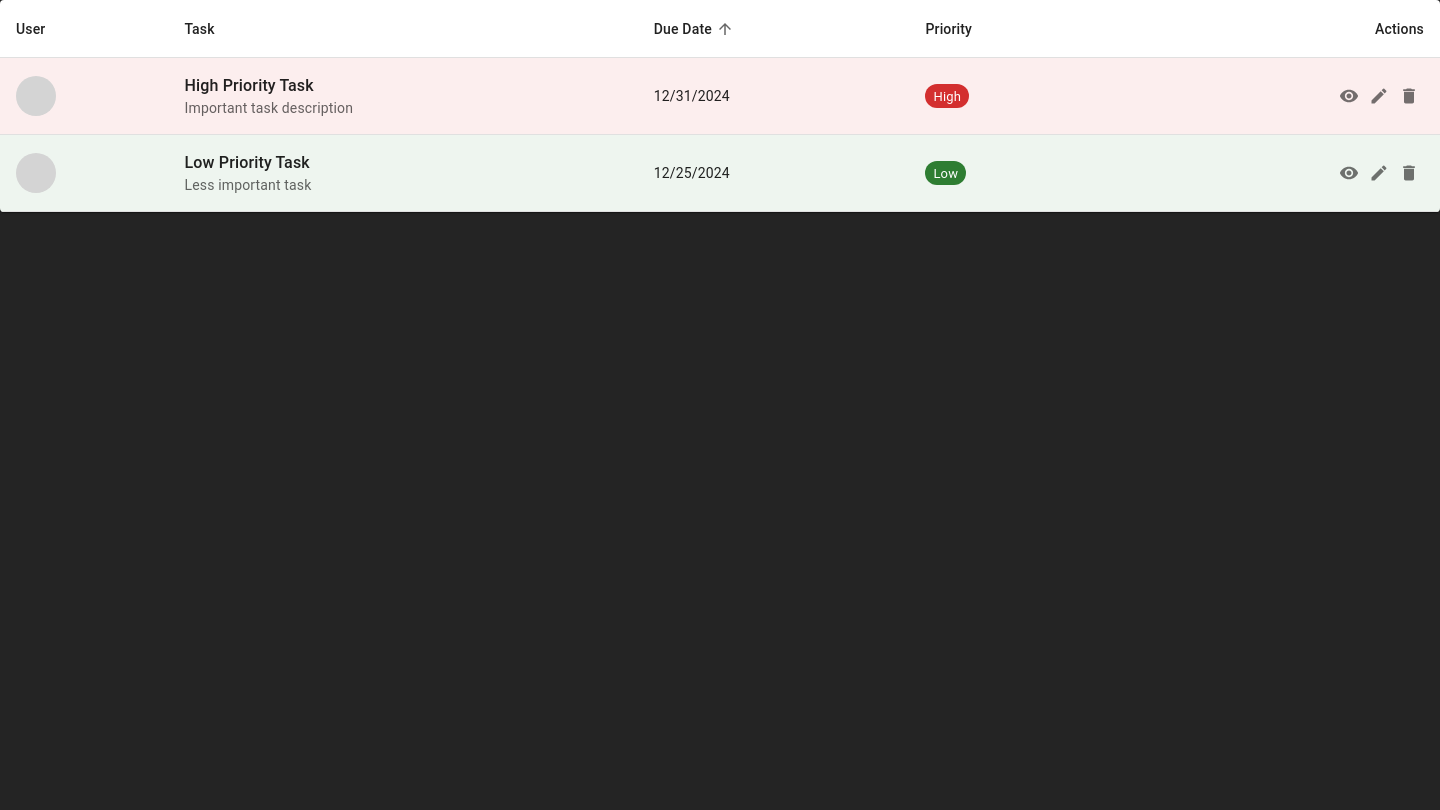
it: TasksTableFull › opens delete dialog when clicking delete button
The width and height of the screenshot is (1440, 810).
Click the button named "delete task" in the row of "High Priority Task". click: [1409, 96]
box: [1394,81,1424,111]
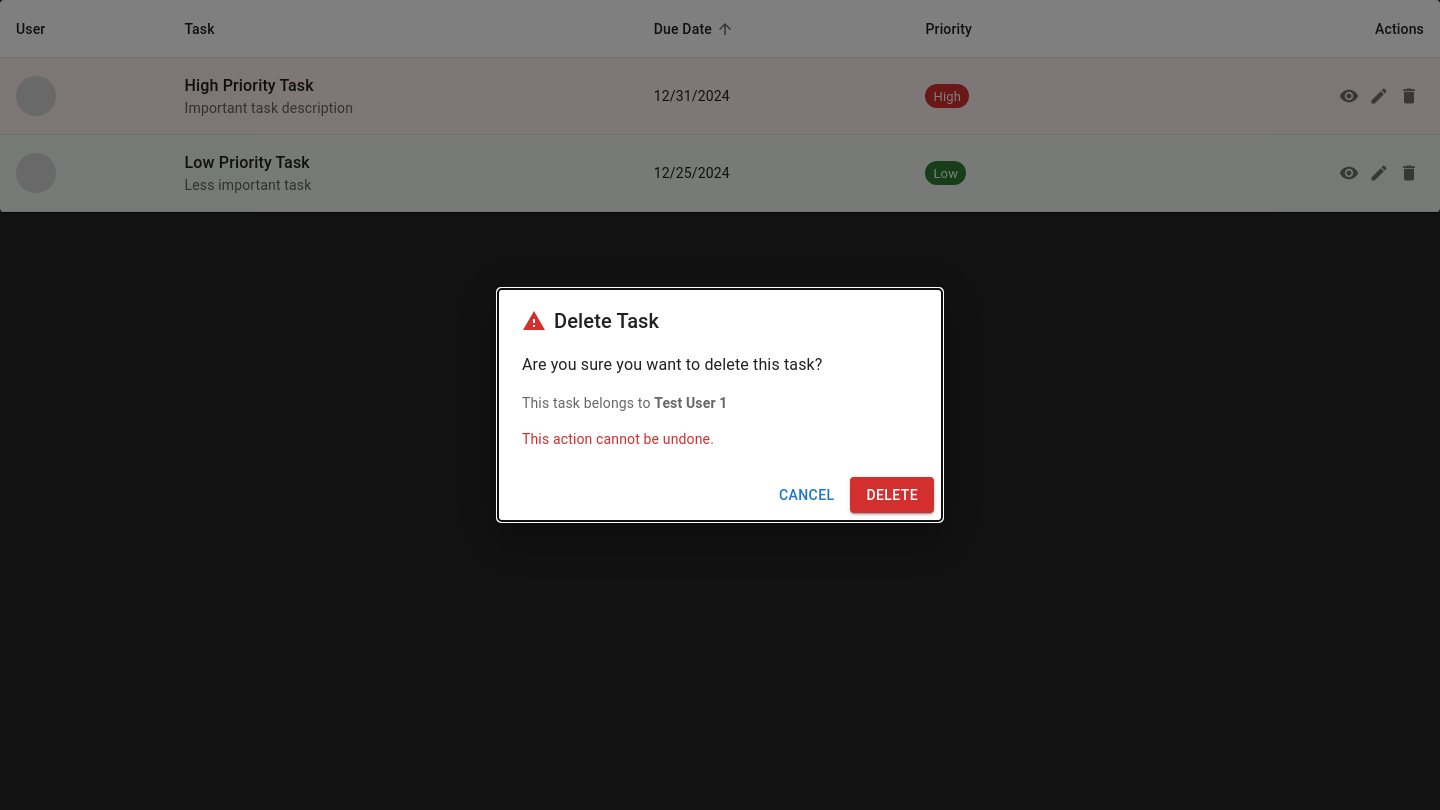
Check: the dialog is shown, box [498,289,942,521]
Check: the text "Delete Task" is shown, box [554,305,659,337]
